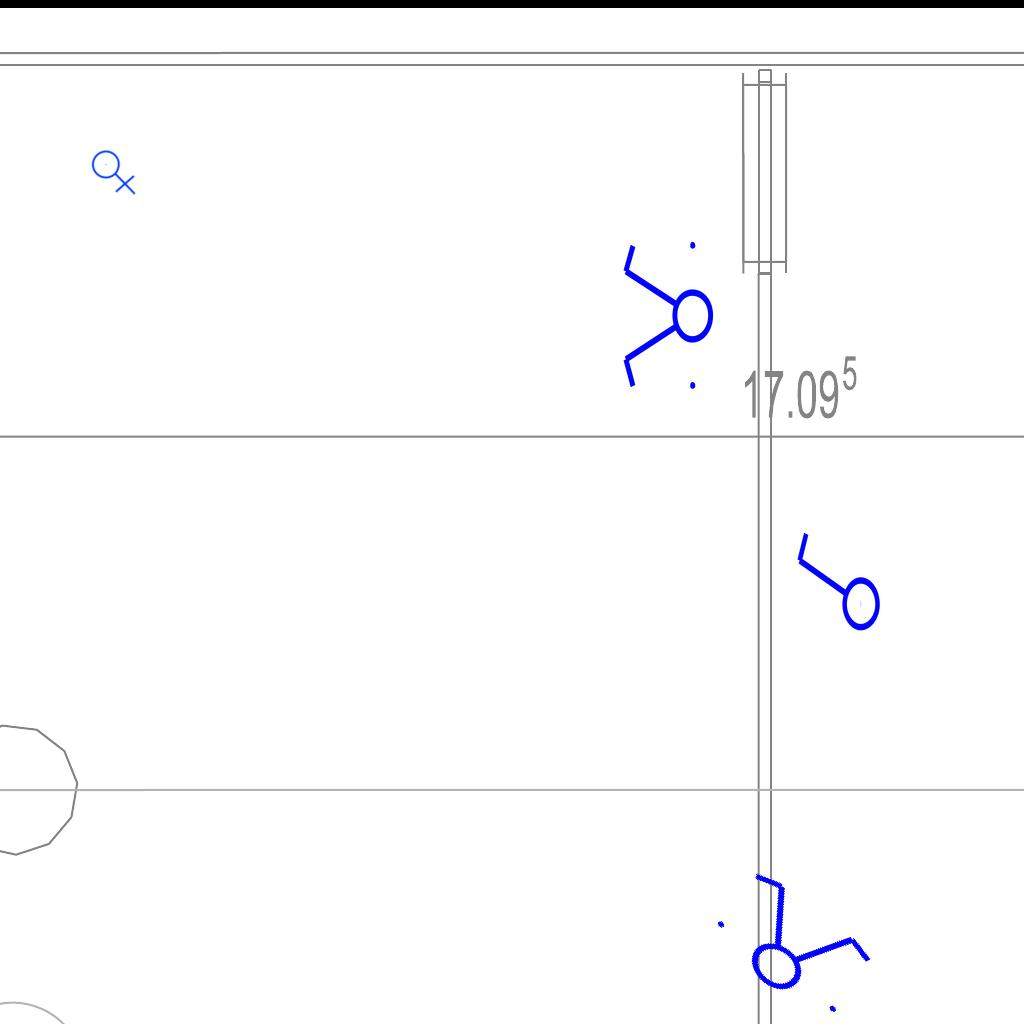Ausschalter: (787, 530, 883, 642)
Elektroanschluss_allgemein_230V_Geraeteanschlussdose_230V: (91, 146, 138, 195)
Serienschalter: (695, 856, 887, 1024), (619, 233, 715, 401)
